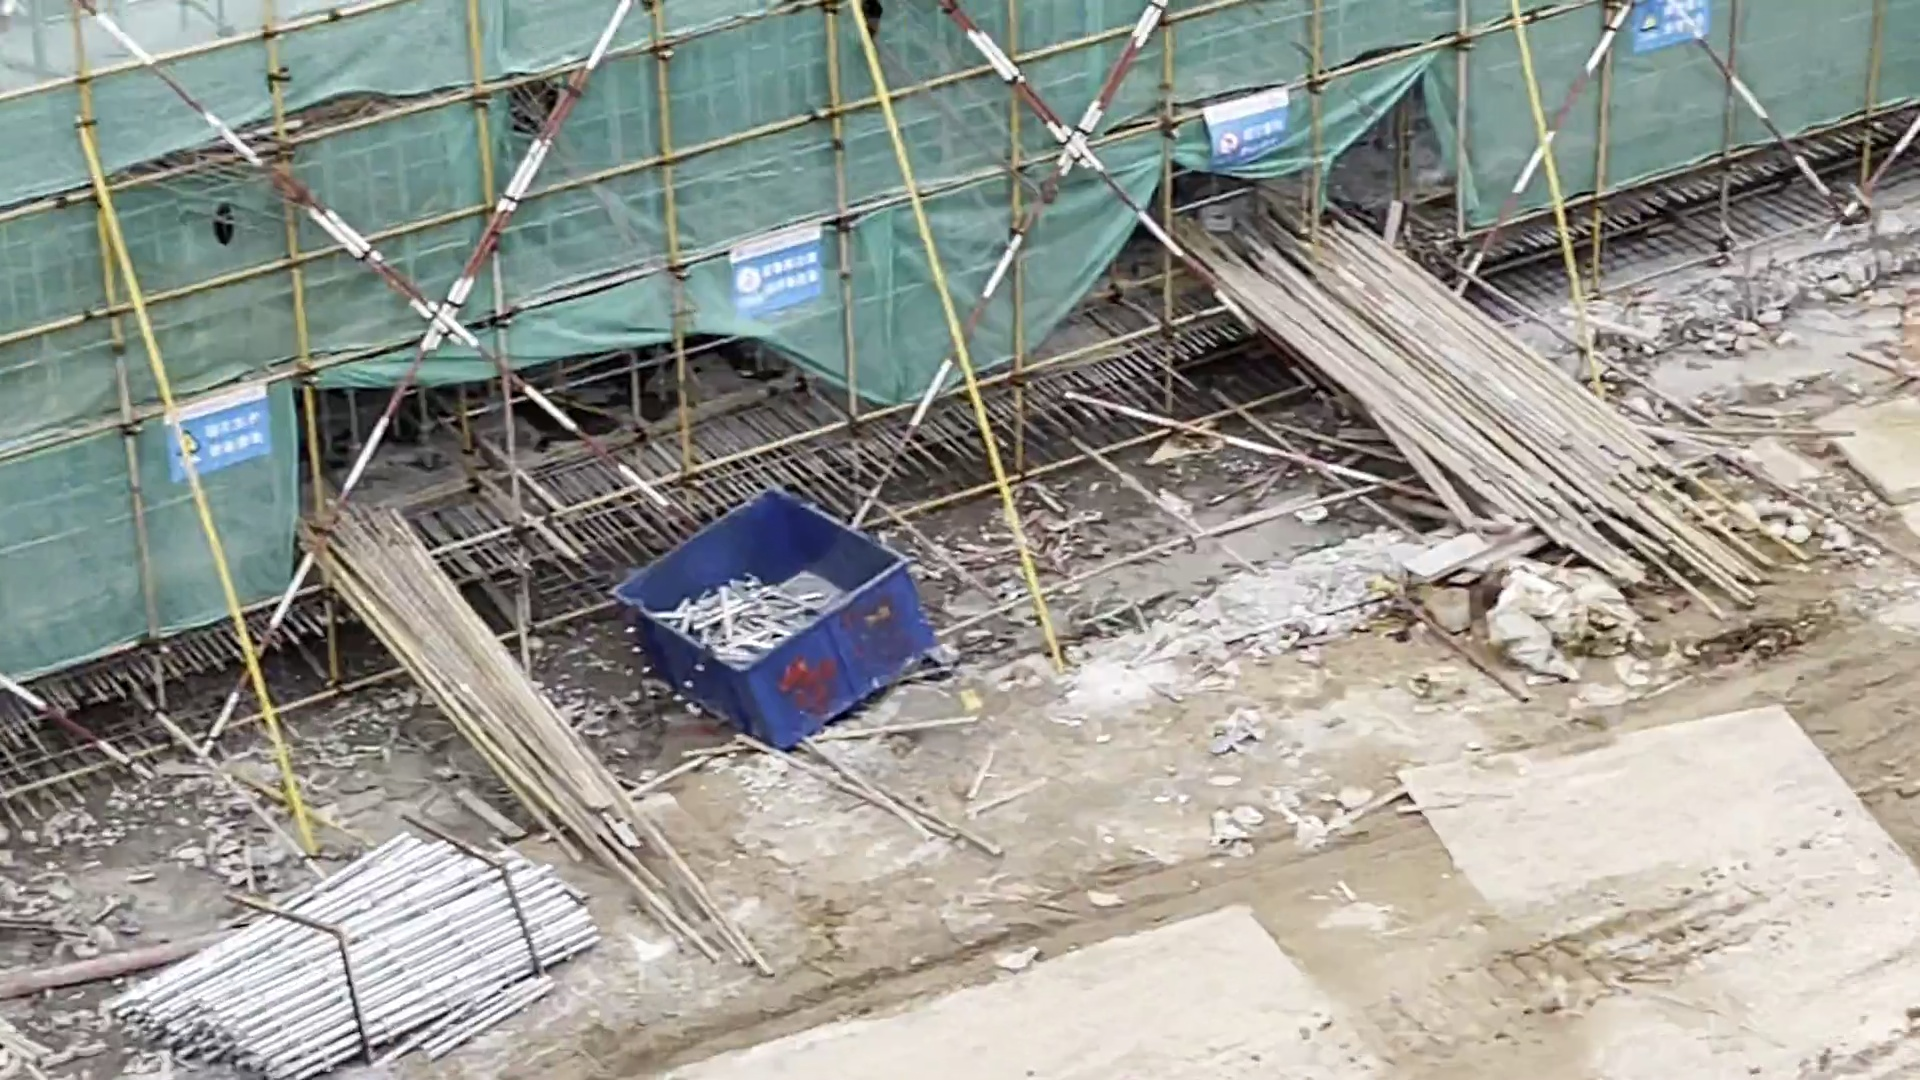wood: (1164, 200, 1780, 634), (313, 495, 735, 956)
